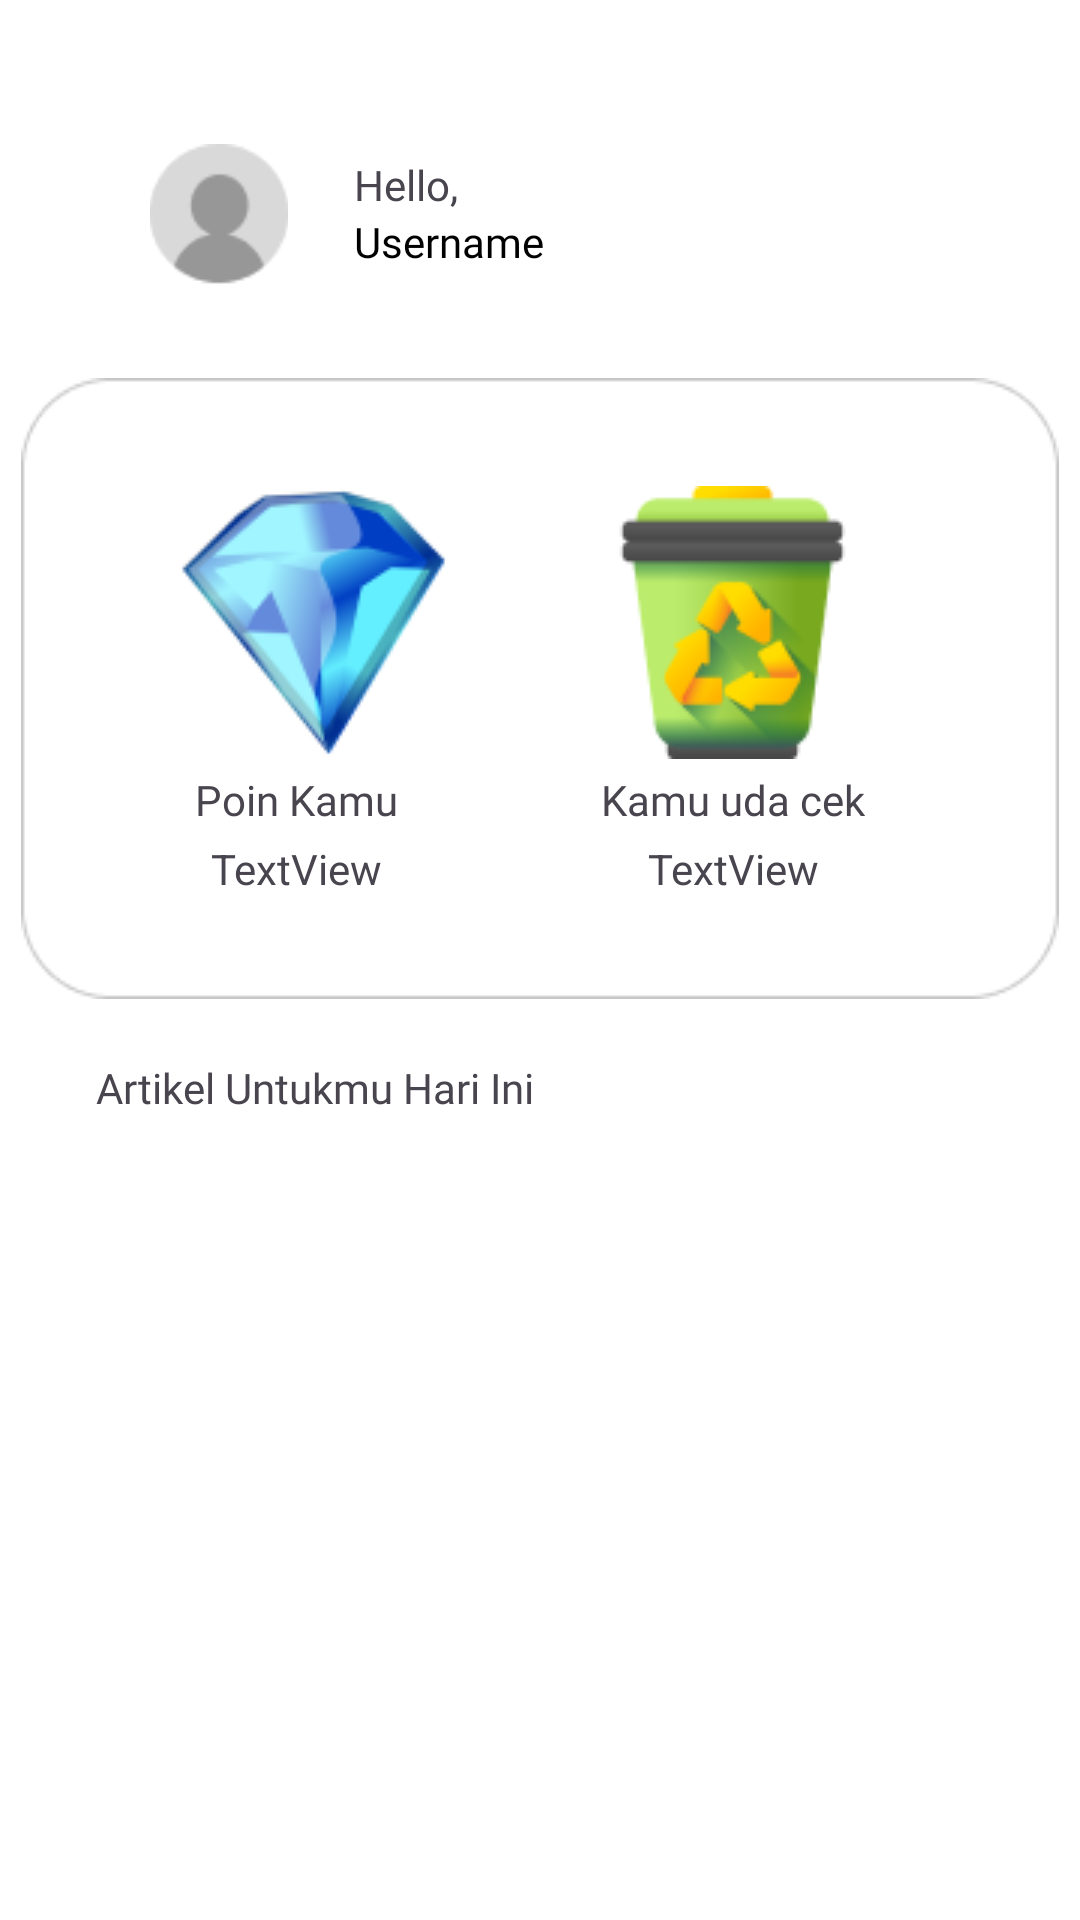

Screen size 1080 × 1920. Icon name, then its center in pixels as point (x, y):
diamond home: point (313, 622)
person: point (219, 214)
trashcan home: point (732, 622)
